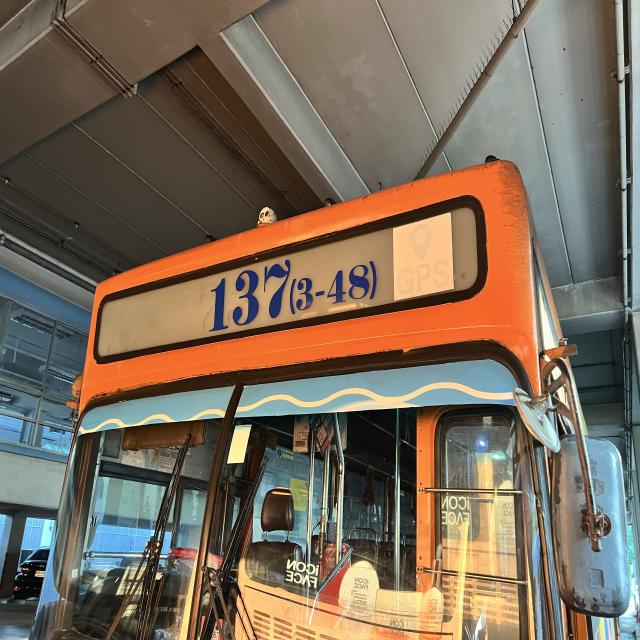BMTA-bus: (47, 158, 640, 640)
Bus-Line-Number: (202, 228, 386, 337)
